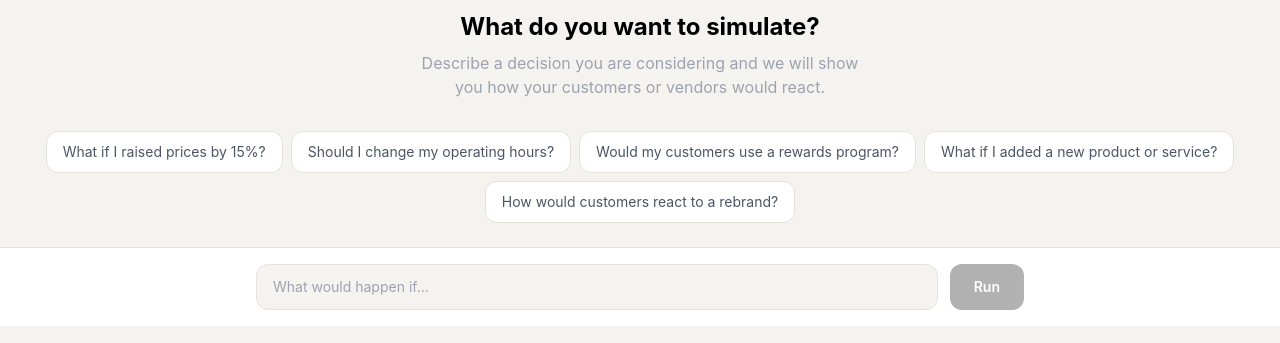
it: ChatInterface › Input Handling › should enable Run button when has text
In the field with placeholder "What would happen if...": (597, 287) x1=256 y1=264 x2=938 y2=310, type "Question"
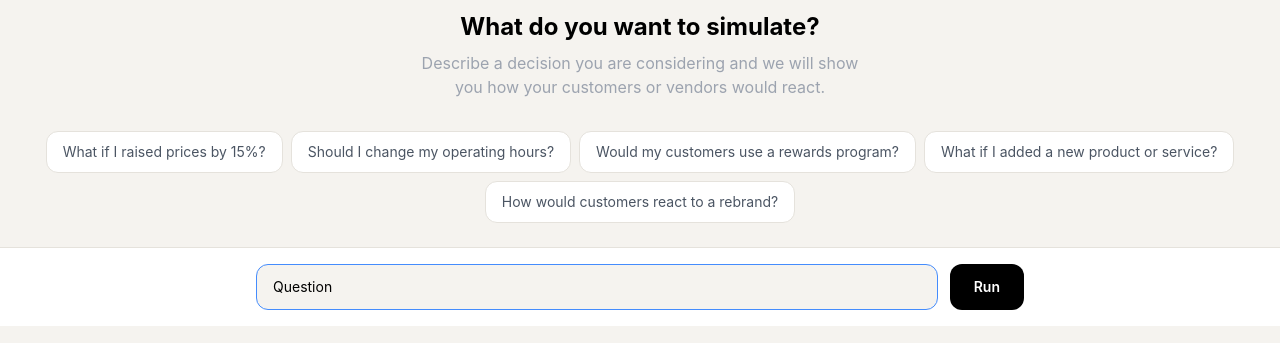
Check: the button "Run" is enabled, box x1=950 y1=264 x2=1024 y2=310
